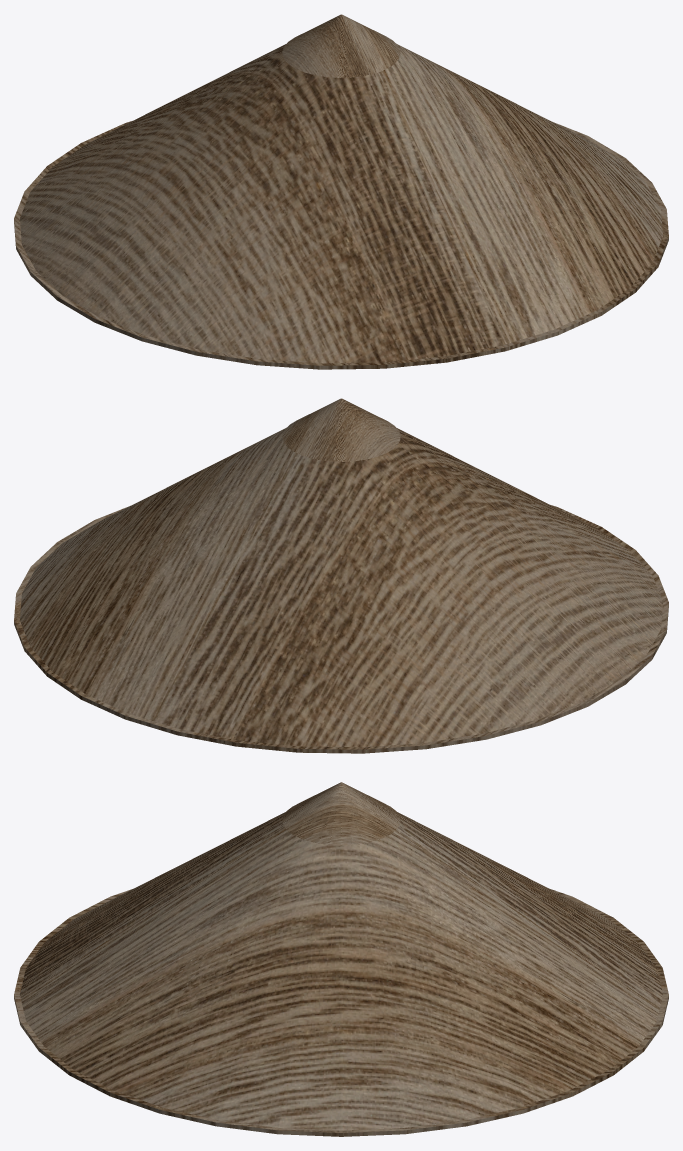
The model's file is rice-hat_thrilldawill.glb.
3 renders of one model, top to bottom at view 1: azimuth 30°, elevation 25°; view 2: azimuth 150°, elevation 25°; view 3: azimuth 270°, elevation 25°, orthographic.
Visible parts, largest first — view 1: Cone_Cone_Material_001; view 2: Cone_Cone_Material_001; view 3: Cone_Cone_Material_001.
Part boxes in pixels (x1=…): Cone_Cone_Material_001: x1=14, y1=14, x2=668, y2=369; Cone_Cone_Material_001: x1=14, y1=398, x2=668, y2=753; Cone_Cone_Material_001: x1=14, y1=782, x2=668, y2=1136.
Bounding box in the file's own units: 243 × 88.52 × 243.
1 material, 1 textured.
